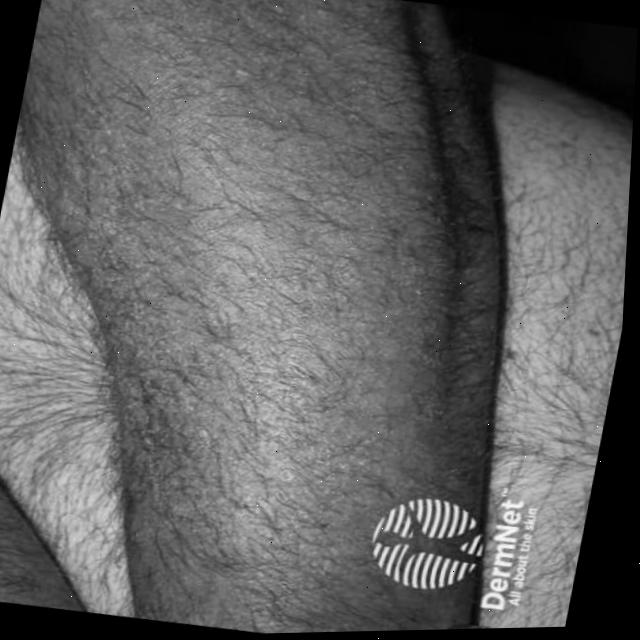Eczema: (43, 0, 492, 602)
